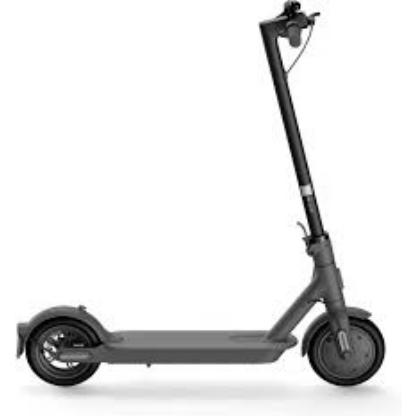bike: (5, 4, 386, 391)
